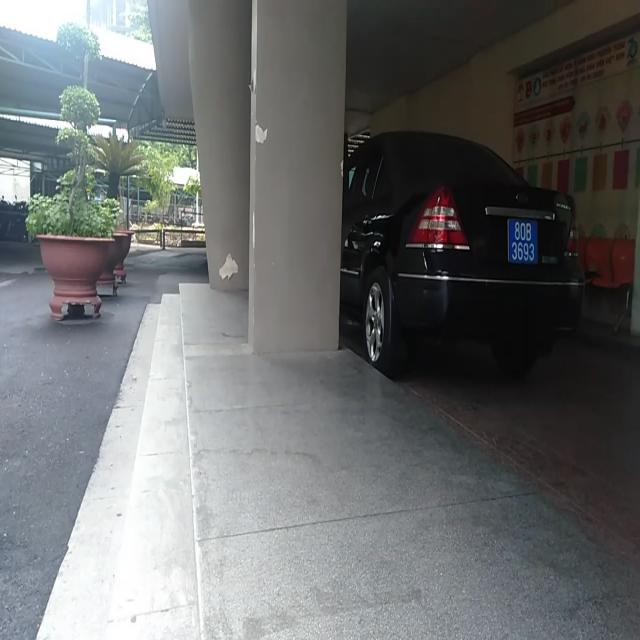bien_xanh: (503, 211, 544, 275)
